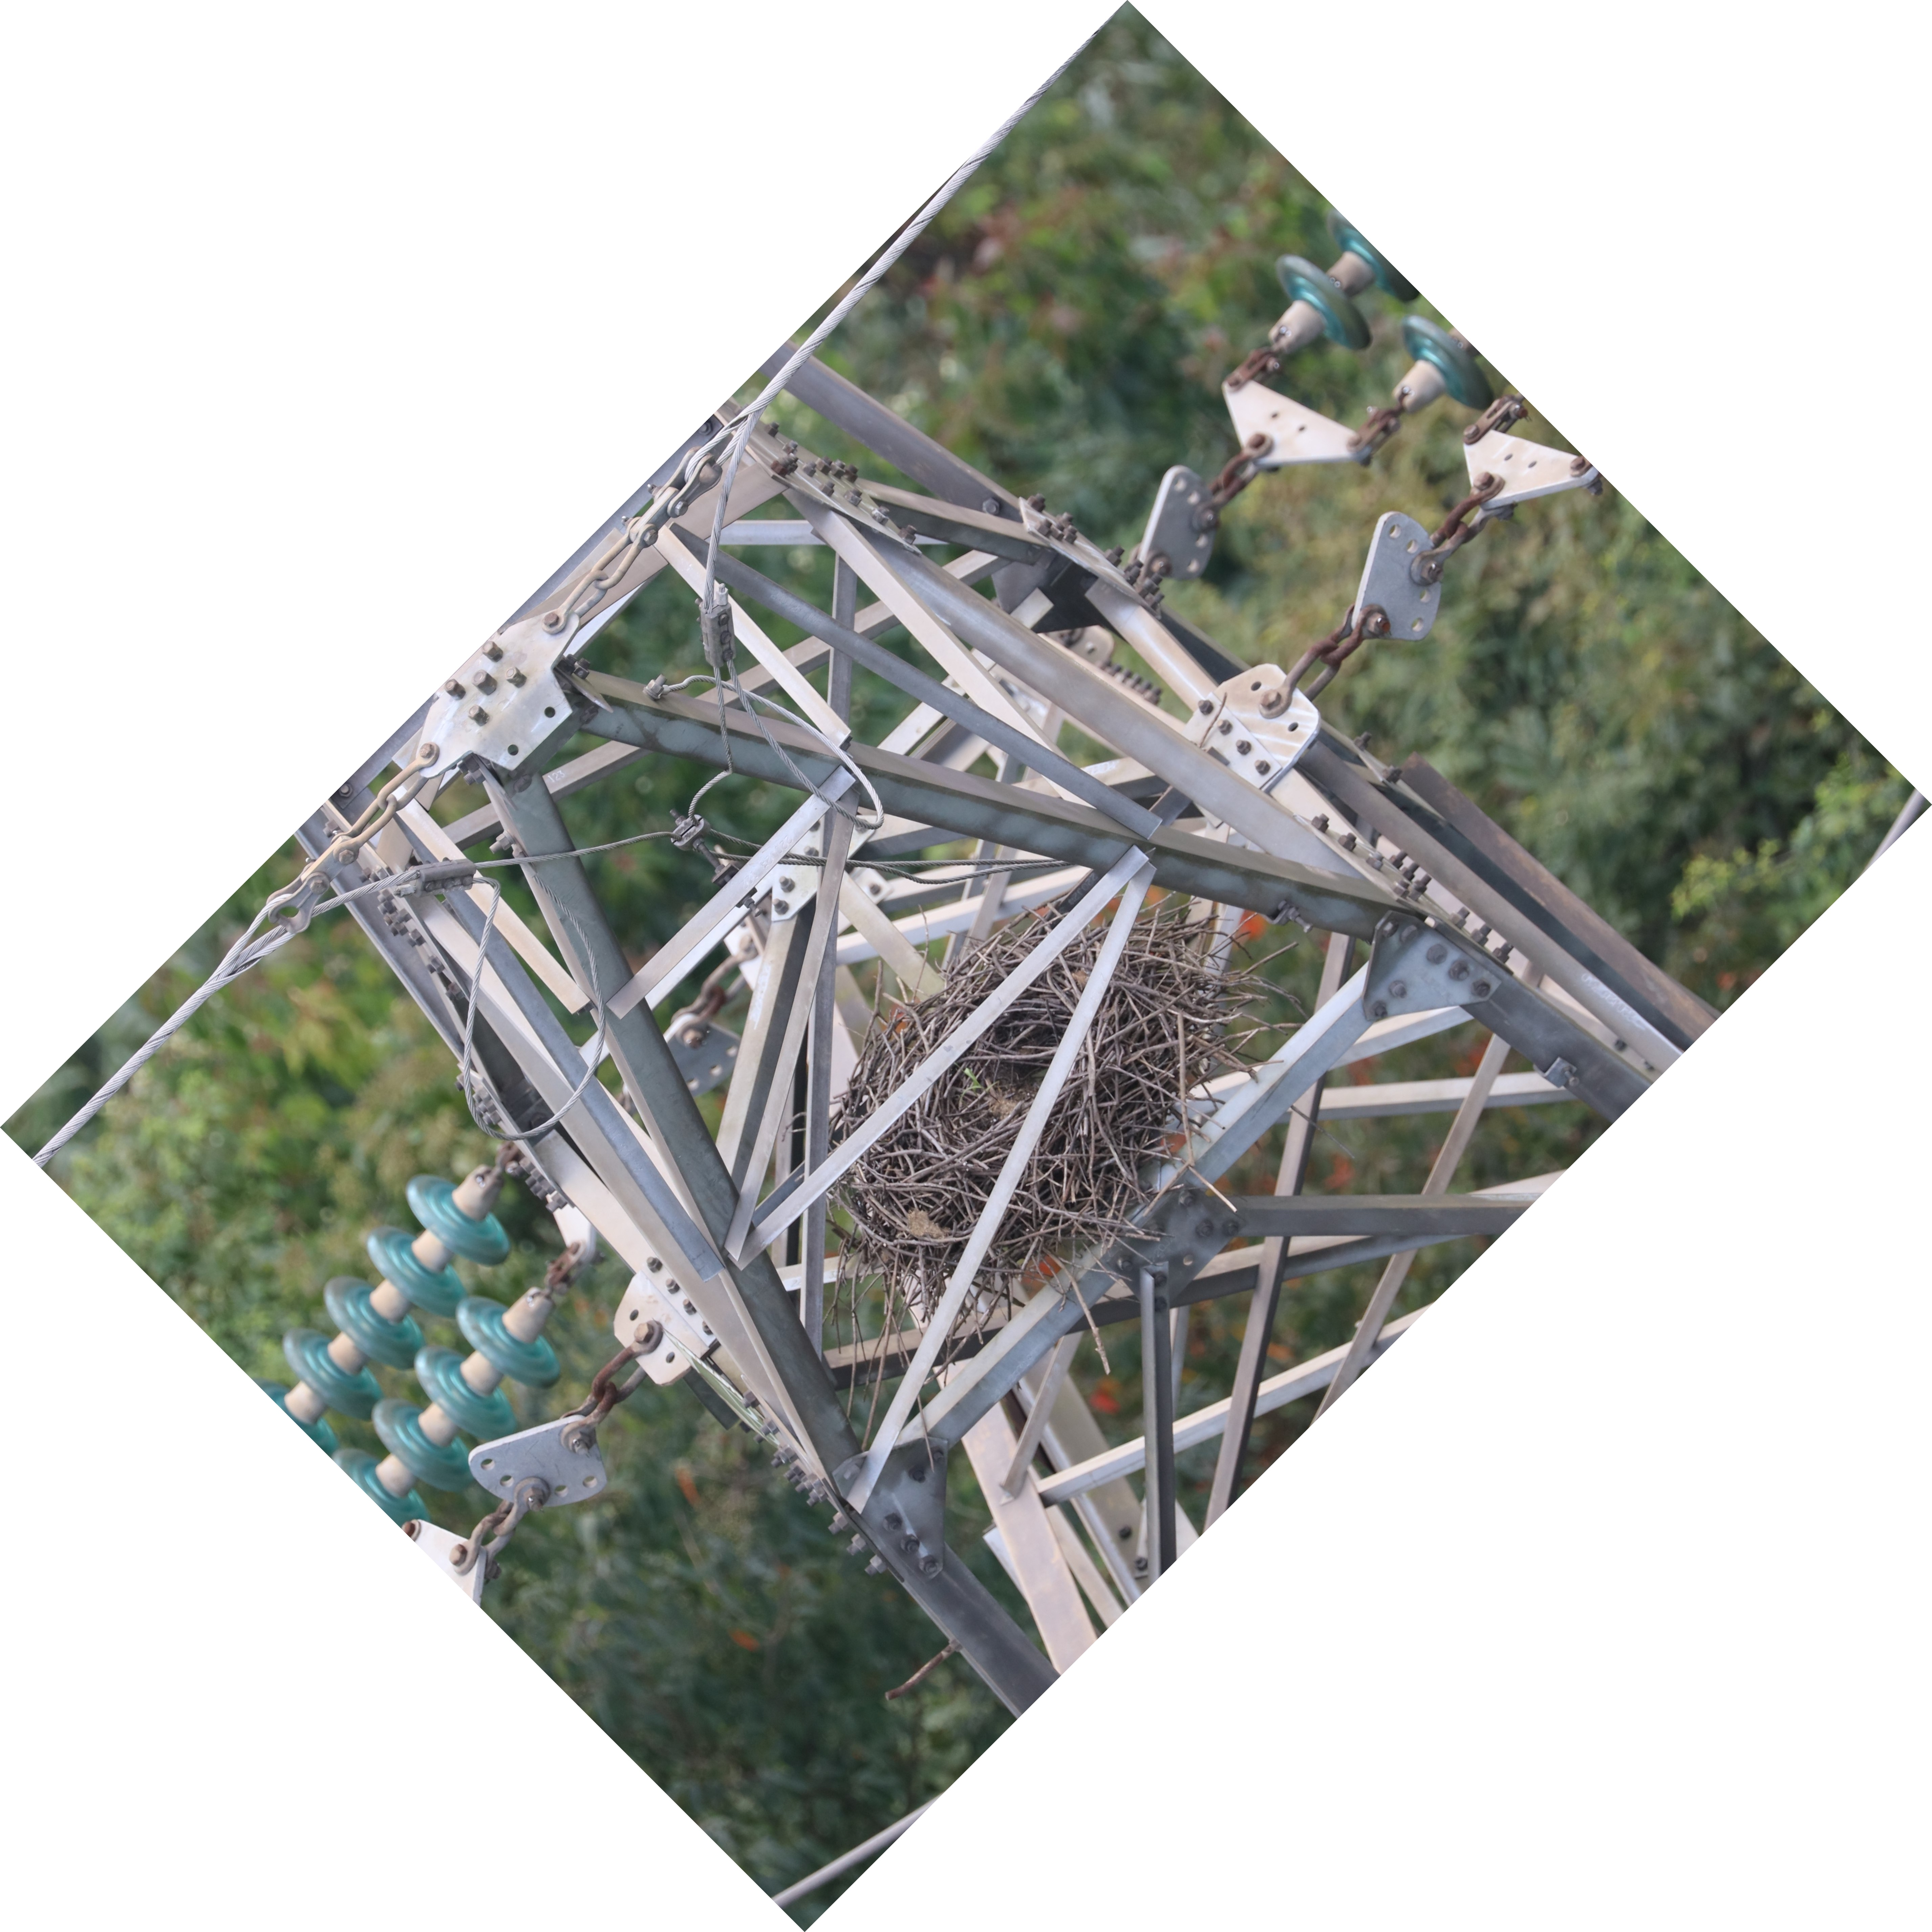niaowo: (745, 899, 1281, 1309)
